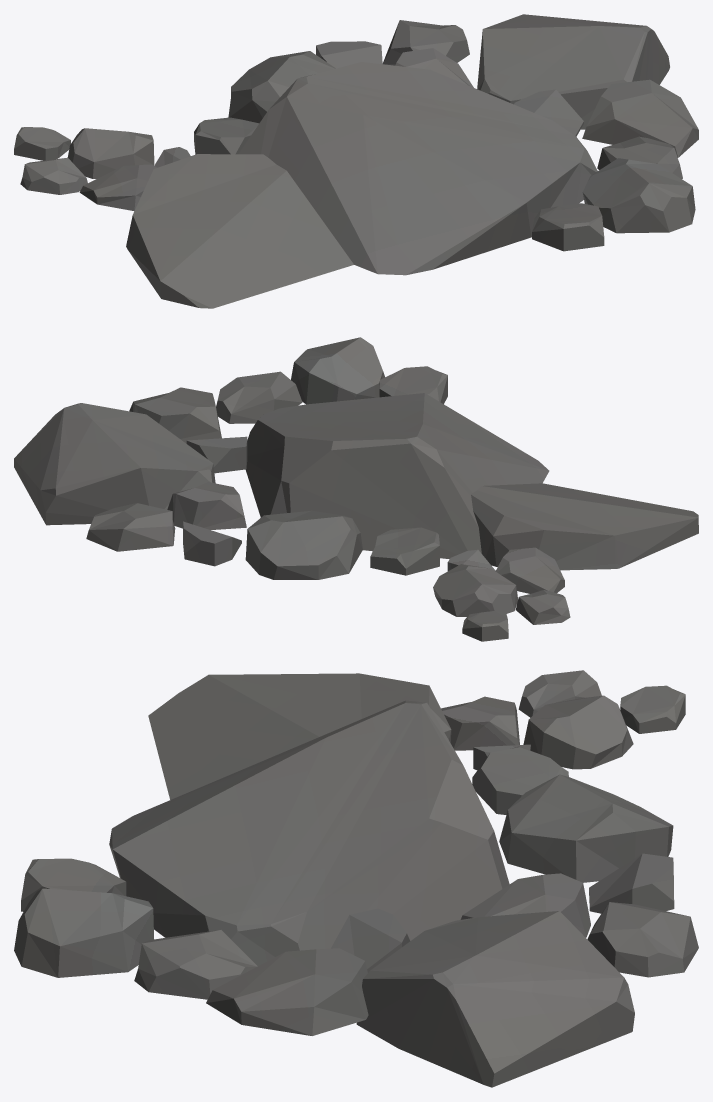
The model's file is Rock_Pile_01.fbx.
3 views of the same model, one above another, from view 1: azimuth 30°, elevation 25°; view 2: azimuth 150°, elevation 25°; view 3: azimuth 270°, elevation 25° (orthographic). The views are drawn at different scales.
Visible parts, largest first — view 1: SM_Rock_Pile_01.mo; view 2: SM_Rock_Pile_01.mo; view 3: SM_Rock_Pile_01.mo.
Part boxes in pixels (x1,y1,x2,y2): SM_Rock_Pile_01.mo: (14,14,698,308); SM_Rock_Pile_01.mo: (14,337,698,641); SM_Rock_Pile_01.mo: (14,670,698,1087).
Bounding box in the file's own units: 346 × 56.53 × 256.
